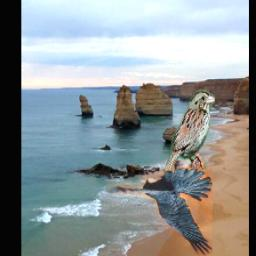Crow: (106, 161, 213, 256)
Sparrow: (160, 91, 215, 187)
